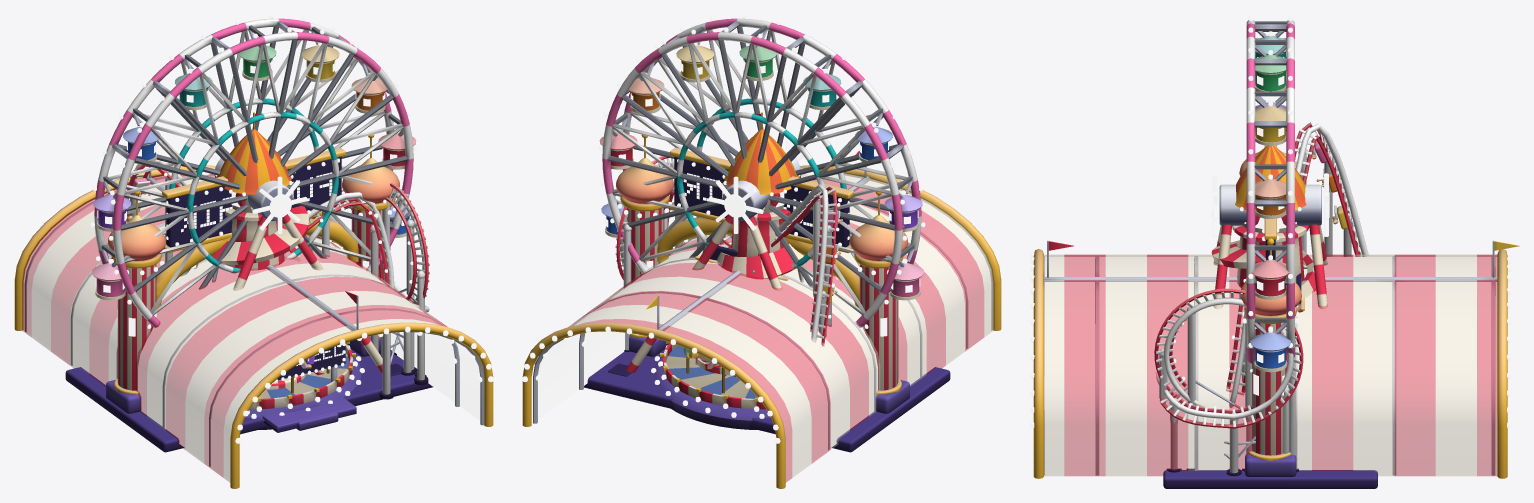
File: world-funfair.glb
The picture shows the model from 3 angles, left to right: view 1: azimuth 30°, elevation 25°; view 2: azimuth 150°, elevation 25°; view 3: azimuth 270°, elevation 25°; orthographic projection. The views are drawn at different scales.
Visible parts, largest first — view 1: big-top.body, ferris-wheel.wheel, entrance-arch.body, ferris-wheel.body, rollercoaster.body, helter-skelter.body, carousel.deck, carousel.body, ferris-wheel.car7, ferris-wheel.car2, ferris-wheel.car3, ferris-wheel.car6 (+4 smaller); view 2: big-top.body, ferris-wheel.wheel, entrance-arch.body, ferris-wheel.body, helter-skelter.body, rollercoaster.body, carousel.deck, carousel.body, ferris-wheel.car7, ferris-wheel.car2, ferris-wheel.car3, ferris-wheel.car6 (+4 smaller); view 3: big-top.body, rollercoaster.body, ferris-wheel.wheel, ferris-wheel.body, entrance-arch.body, helter-skelter.body, ferris-wheel.car13, ferris-wheel.car0, ferris-wheel.car2, ferris-wheel.car1, ferris-wheel.car3, ferris-wheel.car4.
Part boxes in pixels (<box>): big-top.body: <box>14,165,493,488</box>; ferris-wheel.wheel: <box>90,14,417,328</box>; entrance-arch.body: <box>106,134,399,413</box>; ferris-wheel.body: <box>65,214,432,452</box>; rollercoaster.body: <box>110,159,429,399</box>; helter-skelter.body: <box>212,112,324,375</box>; carousel.deck: <box>250,341,357,411</box>; carousel.body: <box>245,345,364,430</box>; ferris-wheel.car7: <box>91,244,129,300</box>; ferris-wheel.car2: <box>301,26,339,82</box>; ferris-wheel.car3: <box>238,25,276,80</box>; ferris-wheel.car6: <box>93,176,131,231</box>; big-top.body: <box>522,151,1001,488</box>; ferris-wheel.wheel: <box>598,14,925,328</box>; entrance-arch.body: <box>616,134,909,413</box>; ferris-wheel.body: <box>584,214,950,452</box>; helter-skelter.body: <box>696,112,803,376</box>; rollercoaster.body: <box>615,156,842,351</box>; carousel.deck: <box>658,341,765,411</box>; carousel.body: <box>651,345,770,429</box>; ferris-wheel.car7: <box>886,244,924,300</box>; ferris-wheel.car2: <box>676,26,714,82</box>; ferris-wheel.car3: <box>739,25,777,80</box>; ferris-wheel.car6: <box>884,176,922,231</box>; big-top.body: <box>1030,240,1519,478</box>; rollercoaster.body: <box>1154,121,1369,476</box>; ferris-wheel.wheel: <box>1211,14,1329,372</box>; ferris-wheel.body: <box>1163,224,1377,488</box>; entrance-arch.body: <box>1239,145,1301,476</box>; helter-skelter.body: <box>1211,145,1316,297</box>; ferris-wheel.car13: <box>1250,317,1291,372</box>; ferris-wheel.car0: <box>1251,245,1289,299</box>; ferris-wheel.car2: <box>1254,91,1286,145</box>; ferris-wheel.car1: <box>1254,164,1286,218</box>; ferris-wheel.car3: <box>1254,40,1286,91</box>; ferris-wheel.car4: <box>1254,21,1286,58</box>.
Bounding box in the file's own units: 48.12 × 52.01 × 59.36.
